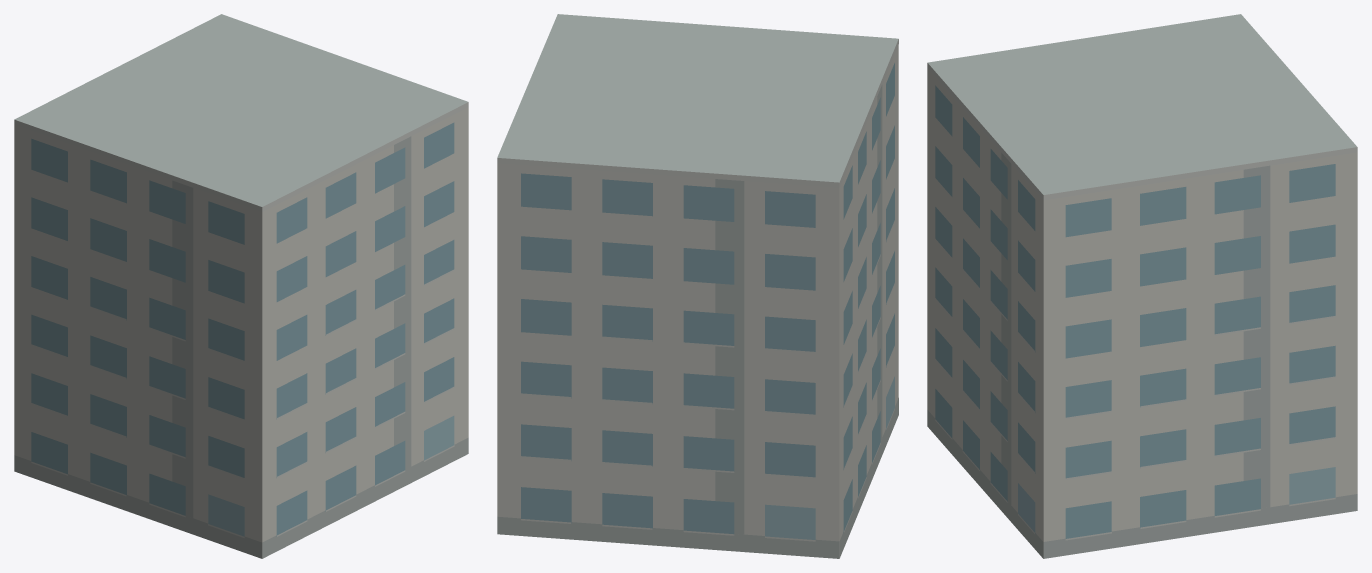
File: survey-upis-32843956.glb
The picture shows the model from 3 angles, left to right: view 1: azimuth 30°, elevation 25°; view 2: azimuth 150°, elevation 25°; view 3: azimuth 270°, elevation 25°; orthographic projection. The views are drawn at different scales.
Parts seen in each view (by area): view 1: survey-upis-32843956.tmp; view 2: survey-upis-32843956.tmp; view 3: survey-upis-32843956.tmp.
Part boxes in pixels (x1=…): survey-upis-32843956.tmp: x1=14, y1=14, x2=468, y2=558; survey-upis-32843956.tmp: x1=497, y1=14, x2=898, y2=558; survey-upis-32843956.tmp: x1=927, y1=14, x2=1357, y2=558.
Size of the model in its own units: 18.16 by 17 by 18.23.
